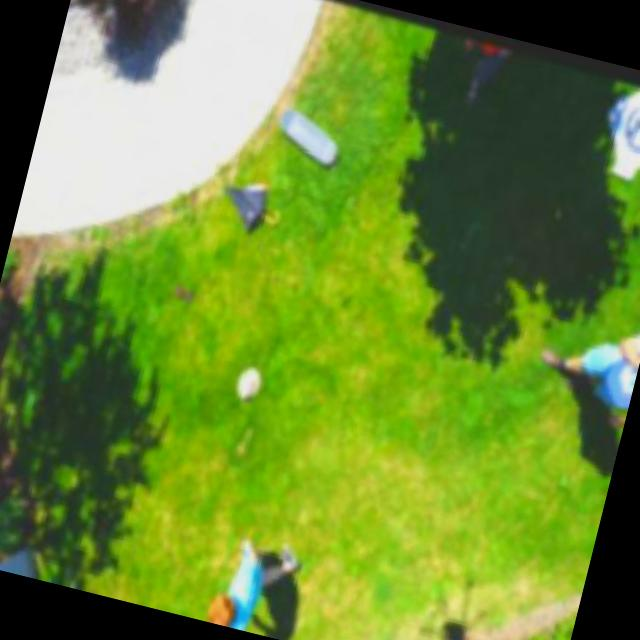Person: (520, 292, 640, 426), (200, 520, 309, 640)
